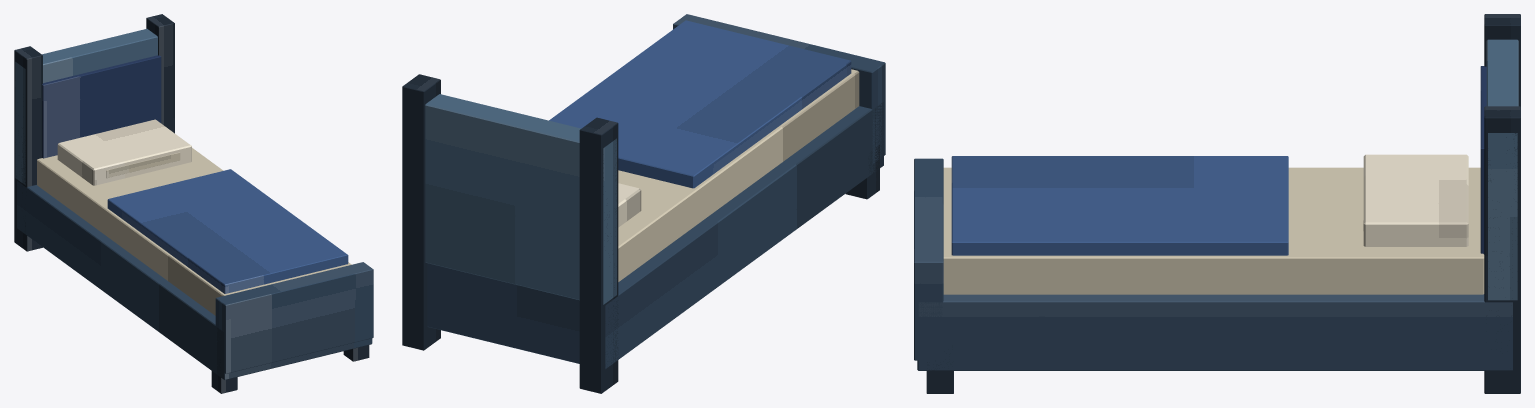
The model's file is single_bed_navy.glb.
The picture shows the model from 3 angles, left to right: view 1: azimuth 30°, elevation 25°; view 2: azimuth 150°, elevation 25°; view 3: azimuth 270°, elevation 25°; orthographic projection. The views are drawn at different scales.
Parts seen in each view (by area): view 1: Blanket, BedFrame, Footboard, Mattress, HeadboardInset, Pillow_1, HeadboardPanel, HeadPostL, HeadPostR, PillowBand_1, FootL, FootR; view 2: BedFrame, HeadboardPanel, Blanket, Mattress, HeadPostL, HeadPostR, Footboard, Pillow_1, FootL; view 3: BedFrame, Blanket, Mattress, Pillow_1, HeadboardPanel, Footboard, HeadPostR, HeadPostL, HeadboardInset, FootR.
Boxes of the visible parts, x1,y1,x2,y2 form: Blanket: [107, 169, 348, 293]; BedFrame: [17, 181, 372, 379]; Footboard: [215, 262, 373, 373]; Mattress: [37, 148, 351, 315]; HeadboardInset: [42, 55, 161, 158]; Pillow_1: [57, 119, 191, 185]; HeadboardPanel: [15, 29, 157, 185]; HeadPostL: [14, 46, 42, 251]; HeadPostR: [146, 14, 174, 133]; PillowBand_1: [106, 152, 180, 178]; FootL: [211, 362, 237, 393]; FootR: [343, 345, 369, 361]; BedFrame: [427, 102, 883, 368]; HeadboardPanel: [425, 94, 616, 304]; Blanket: [549, 20, 851, 188]; Mattress: [618, 69, 859, 281]; HeadPostL: [579, 117, 618, 393]; HeadPostR: [402, 74, 440, 350]; Footboard: [673, 14, 885, 163]; Pillow_1: [618, 183, 641, 227]; FootL: [845, 145, 879, 199]; BedFrame: [917, 294, 1512, 370]; Blanket: [951, 156, 1288, 255]; Mattress: [943, 167, 1484, 294]; Pillow_1: [1363, 154, 1468, 246]; HeadboardPanel: [1486, 39, 1518, 300]; Footboard: [914, 158, 943, 360]; HeadPostR: [1484, 106, 1520, 393]; HeadPostL: [1484, 14, 1520, 106]; HeadboardInset: [1480, 66, 1486, 254]; FootR: [926, 362, 953, 393].
Bounding box in the file's own units: 1.08 × 1.34 × 2.66.
1 material, 1 textured.
